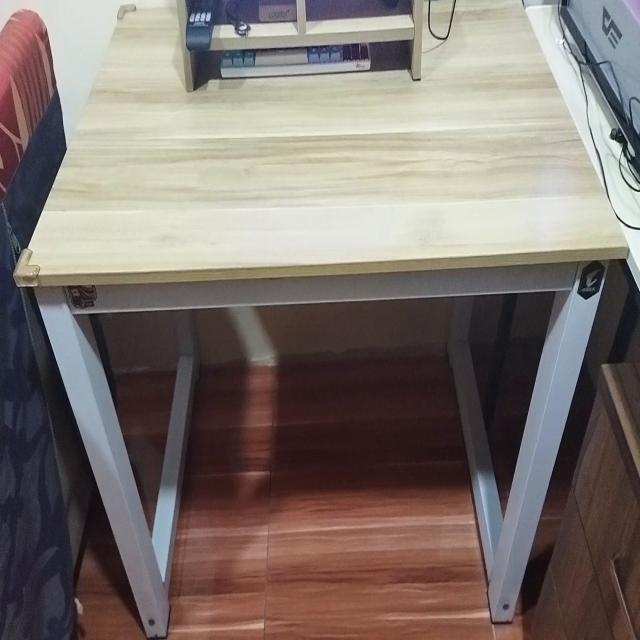table: (15, 0, 640, 637)
